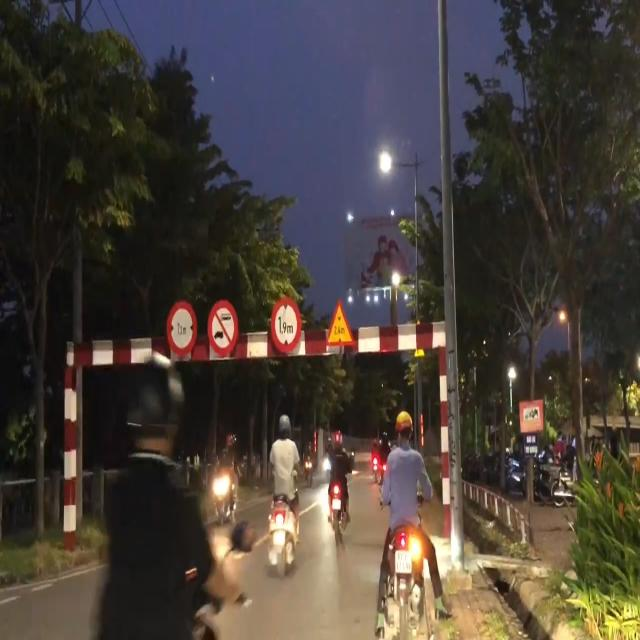Bien bao cam xe oto khach va xe oto tai: (206, 296, 242, 364)
Bien bao chieu cao tinh khong thuc te: (322, 294, 355, 352)
Bien bao han che chieu cao: (268, 292, 303, 359)
